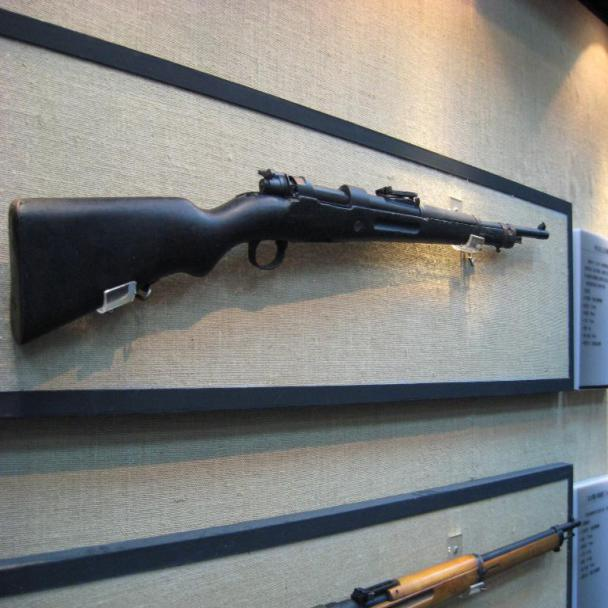Gun: (7, 160, 562, 350), (303, 513, 586, 607)
